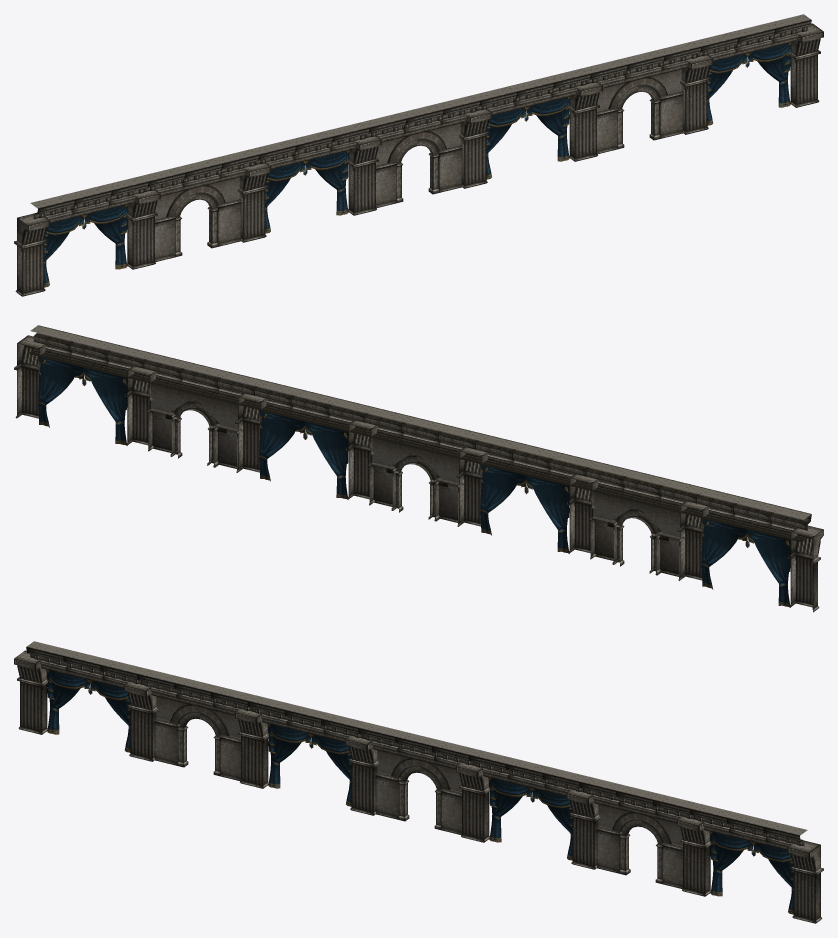
The model's file is EnvBdgMD_Courthouse_A_Indoor_Arch_2F.FBX.
3 renders of one model, top to bottom at view 1: azimuth 30°, elevation 25°; view 2: azimuth 150°, elevation 25°; view 3: azimuth 330°, elevation 25°, orthographic.
Visible parts, largest first — view 1: EnvBdgMD_Courthouse_A_Indoor_Arch_2F; view 2: EnvBdgMD_Courthouse_A_Indoor_Arch_2F; view 3: EnvBdgMD_Courthouse_A_Indoor_Arch_2F.
Part boxes in pixels (x1,y1,x2,y2): EnvBdgMD_Courthouse_A_Indoor_Arch_2F: (14, 14, 823, 296); EnvBdgMD_Courthouse_A_Indoor_Arch_2F: (14, 325, 823, 612); EnvBdgMD_Courthouse_A_Indoor_Arch_2F: (14, 641, 823, 923).
Size of the model in its own units: 4340 by 465 by 126.
